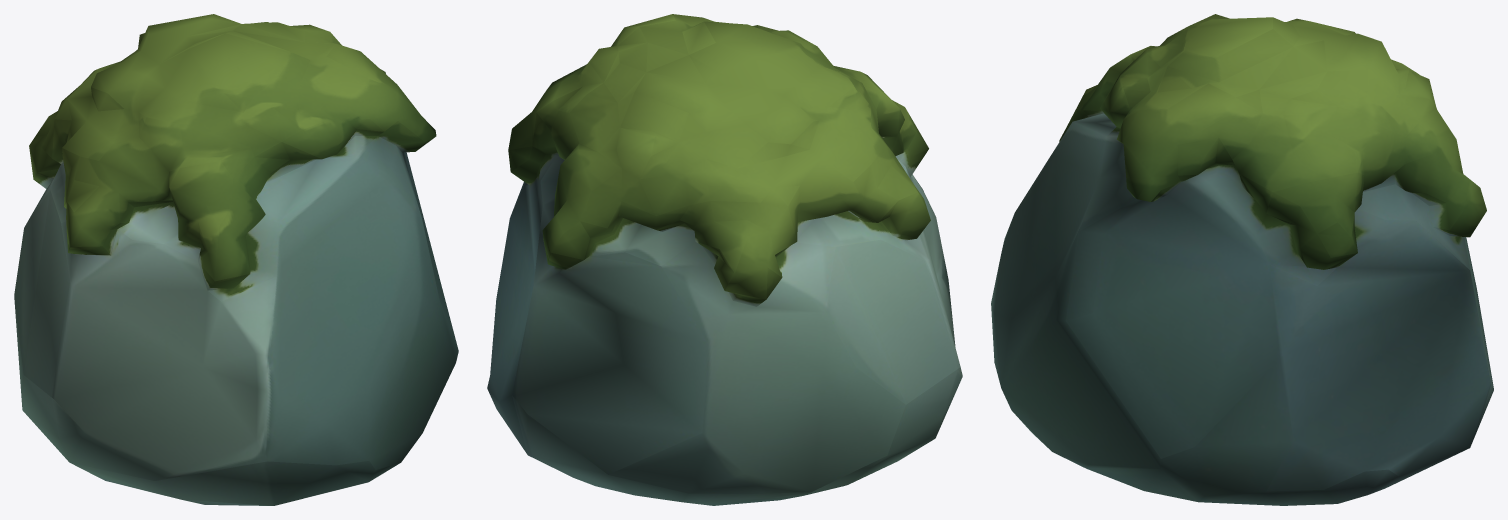
3 renders of one model, left to right at view 1: azimuth 30°, elevation 25°; view 2: azimuth 150°, elevation 25°; view 3: azimuth 270°, elevation 25°, orthographic. The views are drawn at different scales.
Parts seen in each view (by area): view 1: forest-rock-1; view 2: forest-rock-1; view 3: forest-rock-1.
Part boxes in pixels (x1,y1,x2,y2): forest-rock-1: (14,14,458,505); forest-rock-1: (487,14,962,505); forest-rock-1: (991,14,1493,505).
Size of the model in its own units: 0.3773 by 0.3386 by 0.3825.
Materials: 1 (1 with a texture image).
